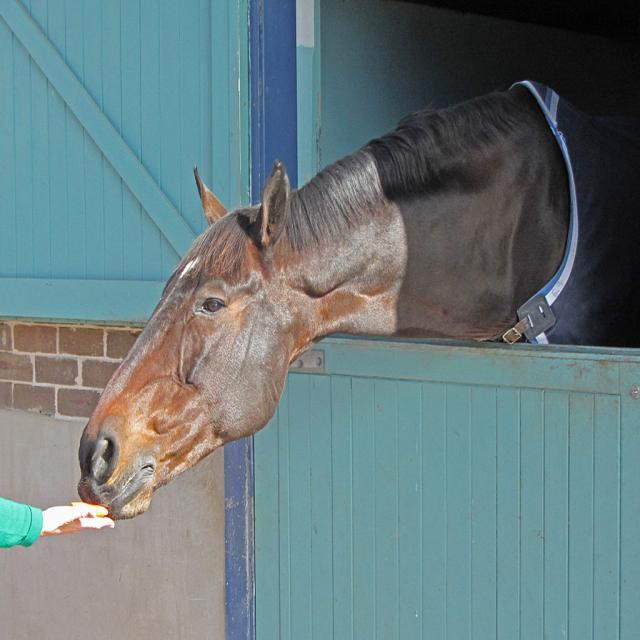Horse: (77, 80, 640, 522)
